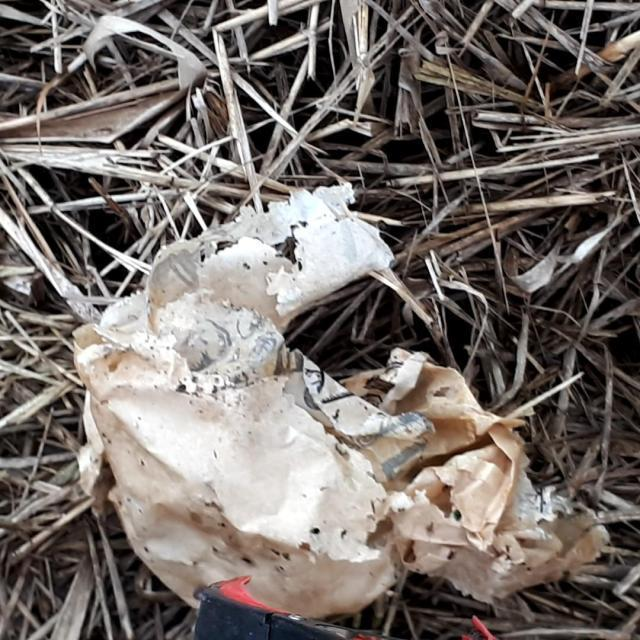Paper: (64, 178, 609, 620)
